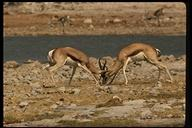antelope: (98, 41, 174, 86), (41, 45, 107, 86)
grass: (55, 116, 134, 124)
rock: (139, 109, 153, 120), (18, 99, 29, 108)
water: (5, 37, 45, 59)
